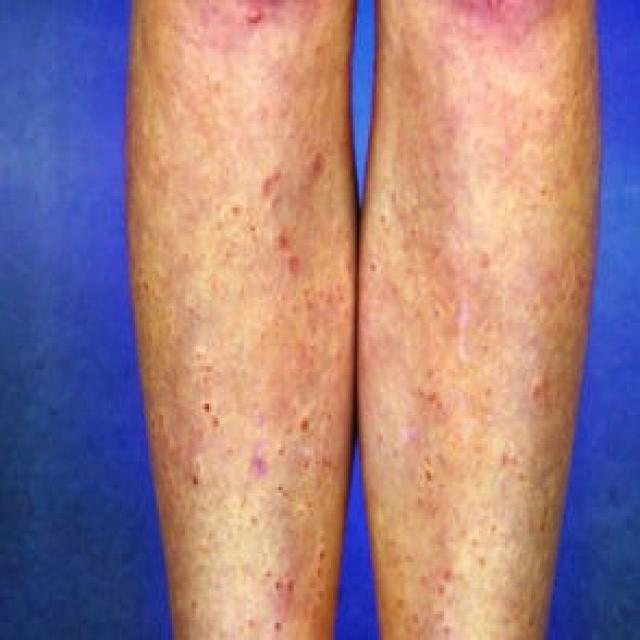Warts-Molluscum-and-other-Viral-Infections: (370, 119, 555, 578), (173, 72, 336, 546)
